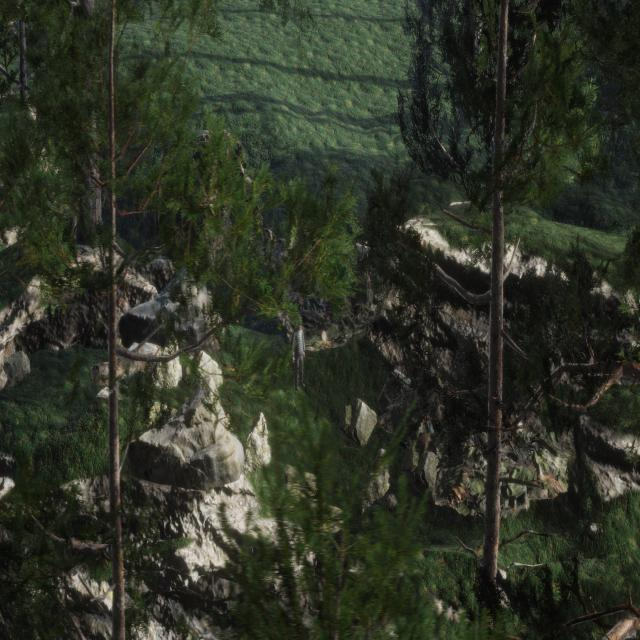Human: (285, 305, 312, 401)
